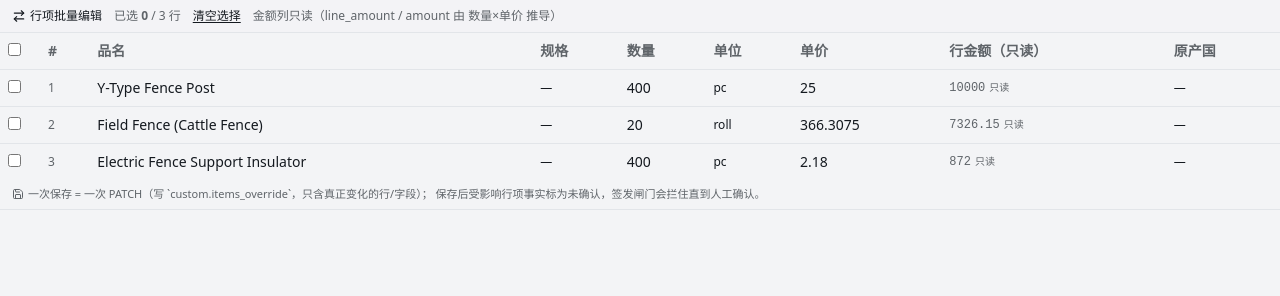
Test: DocItemsBatchEditor · 多选 / 预览 / 一次保存 / 撤销 › 全选 / 半选（indeterminate）/ 清空
Expected: the checkbox named "全选行项" is not checked, [8,43,21,56]
Click the checkbox named "选择第 1 行" at (14, 86), box [8,80,21,93]
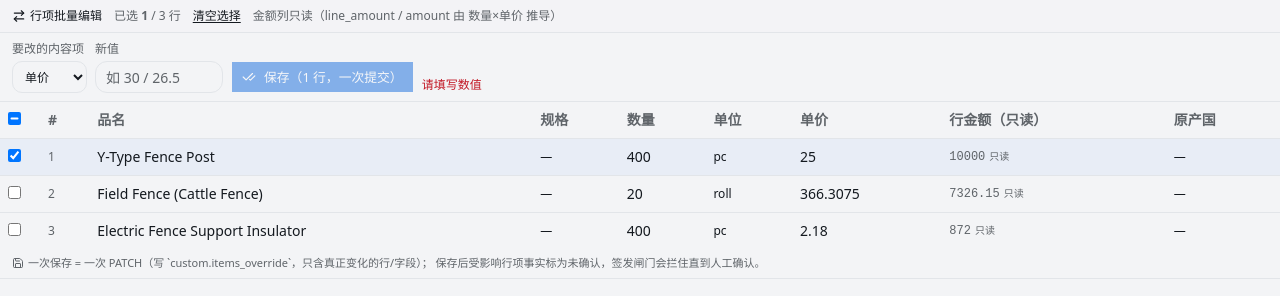
Click the checkbox named "全选行项" at (14, 118), box [8,112,21,125]
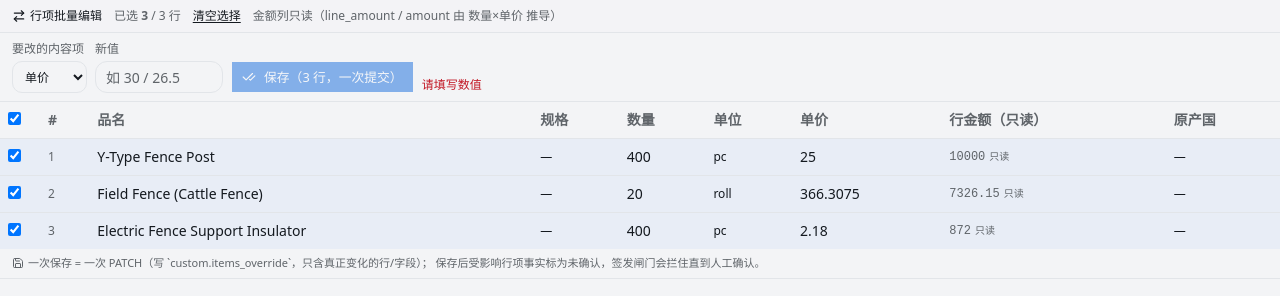
Expected: the checkbox named "全选行项" is checked
Expected: the text "已选 3 / 3 行" is shown, [114,8,181,24]
Click the checkbox named "全选行项" at (14, 118), box [8,112,21,125]
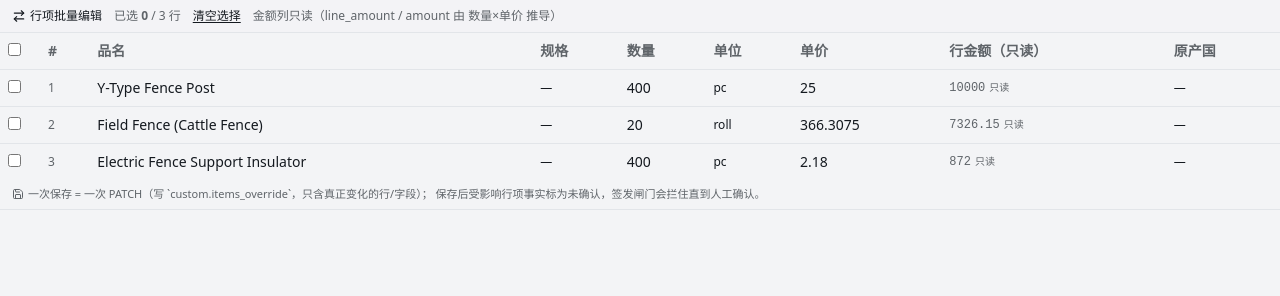
Expected: the text "已选 0 / 3 行" is shown, [114,8,181,24]
